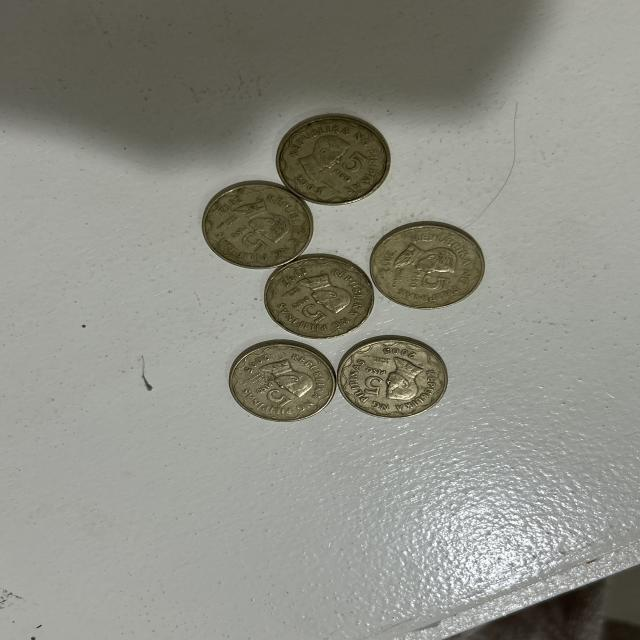5_Old_Front: (331, 148, 373, 185), (358, 363, 392, 408), (408, 267, 453, 301), (250, 377, 296, 408), (284, 296, 327, 328), (231, 221, 268, 257)
